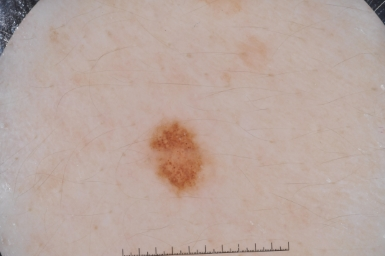melanoma: (151, 121, 201, 189)
